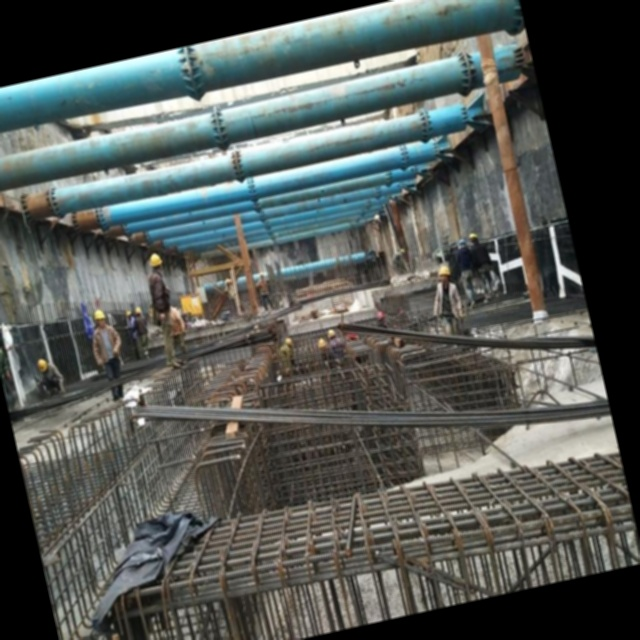Con_Casco: (148, 253, 164, 272), (94, 308, 108, 325)
Sin_Chaleco: (146, 272, 173, 310), (434, 280, 461, 317), (93, 324, 119, 361)
